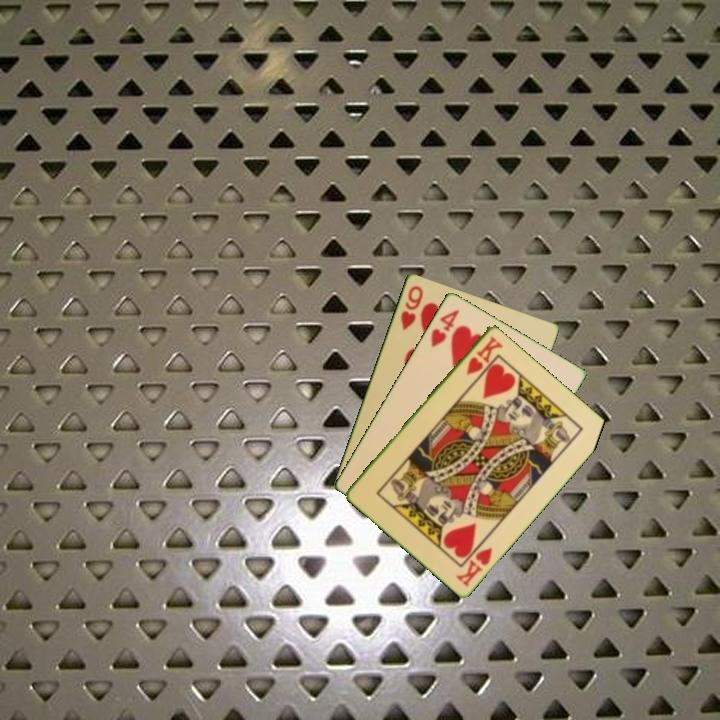4h: (427, 305, 462, 350)
9h: (397, 282, 426, 333)
Kh: (462, 332, 505, 378), (452, 543, 495, 589)
